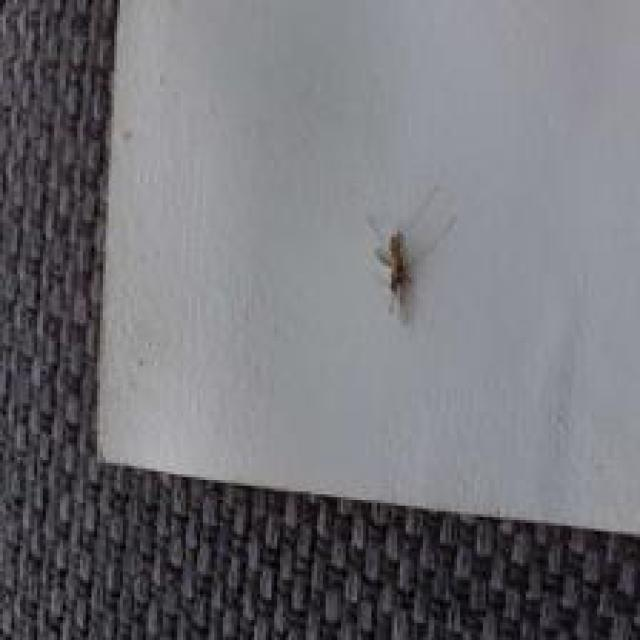Culex: (363, 183, 457, 323)
